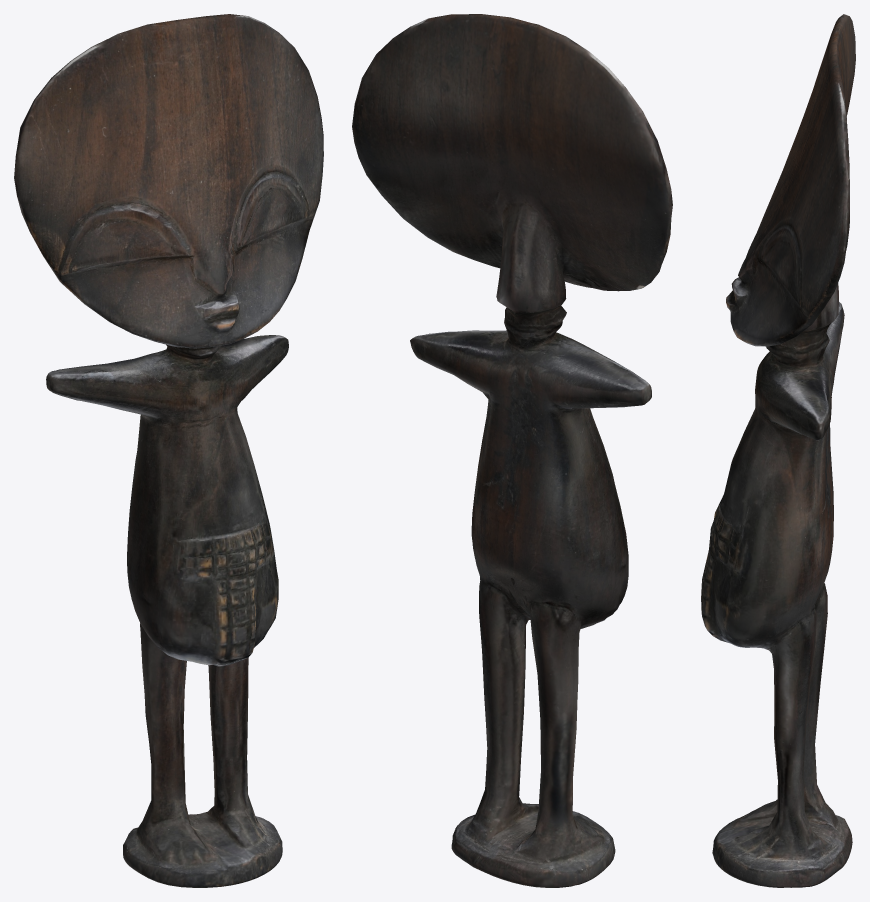
3 renders of one model, left to right at view 1: azimuth 30°, elevation 25°; view 2: azimuth 150°, elevation 25°; view 3: azimuth 270°, elevation 25°, orthographic. The views are drawn at different scales.
Visible parts, largest first — view 1: African Figurine; view 2: African Figurine; view 3: African Figurine.
Boxes of the visible parts, box(x1,y1,x2,y2) form: African Figurine: box(14, 14, 323, 887); African Figurine: box(352, 14, 672, 887); African Figurine: box(701, 14, 855, 887).
Size of the model in its own units: 0.1159 by 0.2972 by 0.0514.
1 material, 1 textured.
